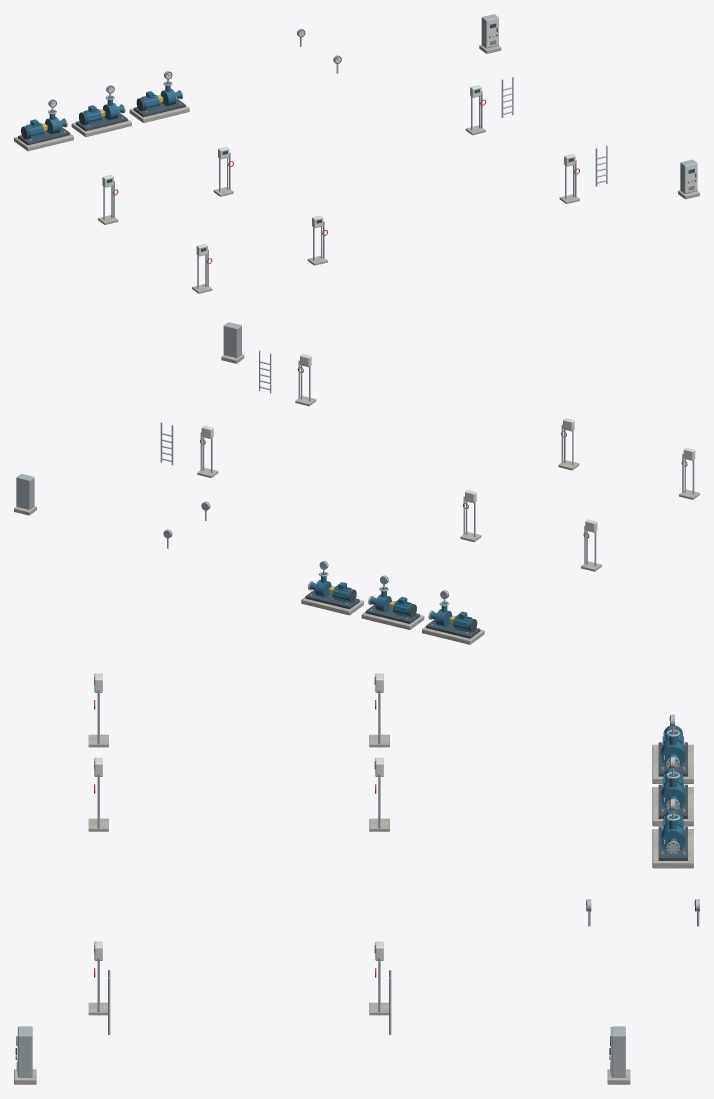
File: overview-details.glb
3 views of the same model, one above another, from view 1: azimuth 30°, elevation 25°; view 2: azimuth 150°, elevation 25°; view 3: azimuth 270°, elevation 25° (orthographic). The views are drawn at different scales.
Parts seen in each view (by area): view 1: BLOWER-SERVICE-P1, BLOWER-SERVICE-P3, BLOWER-SERVICE-P2, CLARIFIER-MCC-2, CLARIFIER-MCC-1, A2O-1-AIT-1, A2O-2-AIT-1, A2O-2-AIT-2, A2O-1-AIT-3, A2O-2-AIT-3, A2O-1-AIT-2; view 2: BLOWER-SERVICE-P1, BLOWER-SERVICE-P2, BLOWER-SERVICE-P3, CLARIFIER-MCC-1, CLARIFIER-MCC-2, A2O-1-AIT-1, A2O-2-AIT-1, A2O-1-AIT-2, A2O-2-AIT-3, A2O-1-AIT-3, A2O-2-AIT-2; view 3: BLOWER-SERVICE-P3, BLOWER-SERVICE-P2, BLOWER-SERVICE-P1, CLARIFIER-MCC-1, CLARIFIER-MCC-2.
Boxes of the visible parts, box(x1,y1,x2,y2) form: BLOWER-SERVICE-P1: box(14, 109, 73, 151); BLOWER-SERVICE-P3: box(129, 81, 189, 122); BLOWER-SERVICE-P2: box(71, 95, 131, 136); CLARIFIER-MCC-2: box(479, 14, 501, 53); CLARIFIER-MCC-1: box(678, 159, 699, 199); A2O-1-AIT-1: box(98, 175, 118, 224); A2O-2-AIT-1: box(192, 243, 212, 293); A2O-2-AIT-2: box(307, 215, 327, 265); A2O-1-AIT-3: box(465, 85, 485, 135); A2O-2-AIT-3: box(559, 154, 579, 203); A2O-1-AIT-2: box(213, 146, 233, 196); BLOWER-SERVICE-P1: box(422, 601, 484, 644); BLOWER-SERVICE-P2: box(361, 586, 424, 629); BLOWER-SERVICE-P3: box(301, 572, 363, 615); CLARIFIER-MCC-1: box(221, 322, 244, 363); CLARIFIER-MCC-2: box(14, 474, 36, 515); A2O-1-AIT-1: box(581, 519, 601, 571); A2O-2-AIT-1: box(679, 447, 699, 499); A2O-1-AIT-2: box(460, 490, 481, 542); A2O-2-AIT-3: box(295, 354, 316, 406); A2O-1-AIT-3: box(197, 426, 218, 477); A2O-2-AIT-2: box(558, 418, 579, 470); BLOWER-SERVICE-P3: box(652, 810, 693, 868); BLOWER-SERVICE-P2: box(652, 767, 693, 826); BLOWER-SERVICE-P1: box(652, 725, 693, 783); CLARIFIER-MCC-1: box(14, 1026, 36, 1084); CLARIFIER-MCC-2: box(607, 1026, 630, 1084).
Bounding box in the file's own units: 18.15 × 1.62 × 15.14.
8 materials, 1 textured.
